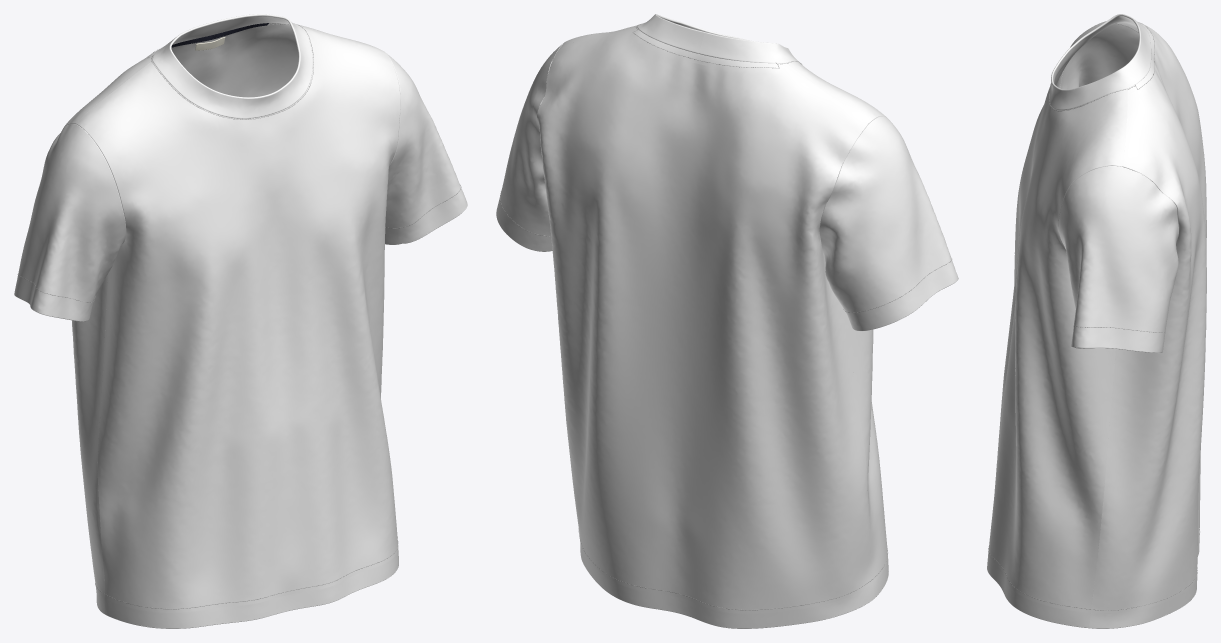
File: white-tshirt.glb
3 views of the same model, side by side, from view 1: azimuth 30°, elevation 25°; view 2: azimuth 150°, elevation 25°; view 3: azimuth 270°, elevation 25° (orthographic). The views are drawn at different scales.
Visible parts, largest first — view 1: Cloth; view 2: Cloth; view 3: Cloth.
Boxes of the visible parts, x1=… form: Cloth: x1=14, y1=14, x2=467, y2=628; Cloth: x1=496, y1=14, x2=958, y2=628; Cloth: x1=987, y1=14, x2=1206, y2=628.
Bounding box in the file's own units: 0.5967 × 0.7213 × 0.2694.
10 materials, 3 textured.
